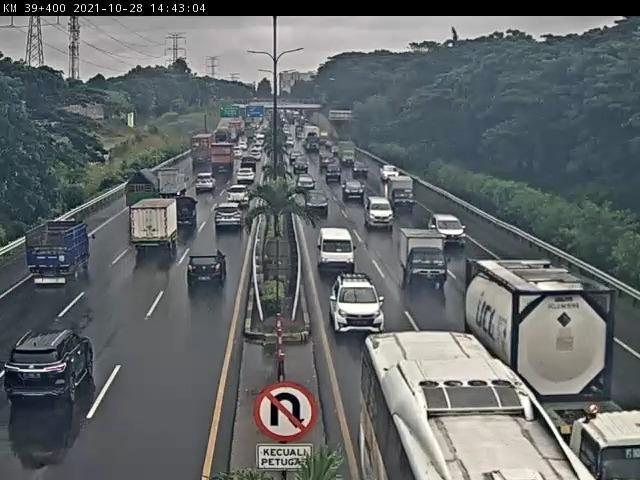car: (6, 329, 94, 406), (331, 274, 385, 338), (320, 229, 356, 278), (187, 251, 229, 292), (430, 215, 468, 252), (366, 196, 397, 231), (215, 203, 244, 232), (309, 193, 334, 218), (346, 182, 369, 206), (229, 187, 254, 207), (195, 173, 217, 194), (297, 177, 319, 198), (327, 164, 345, 186), (380, 166, 399, 185), (236, 167, 256, 184), (354, 160, 370, 180), (296, 160, 311, 175)
truck: (26, 222, 97, 290), (131, 199, 184, 259), (400, 229, 448, 289), (125, 169, 157, 217), (389, 176, 419, 216), (159, 167, 188, 197), (174, 196, 201, 227), (211, 143, 235, 175)
